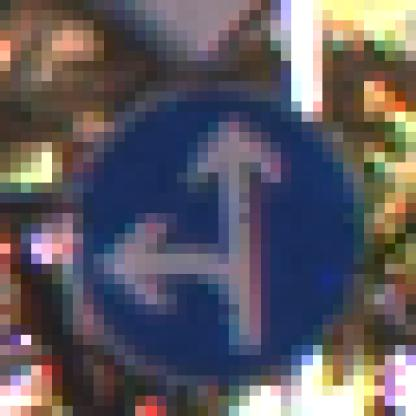Straight or Left: (53, 62, 355, 356)
